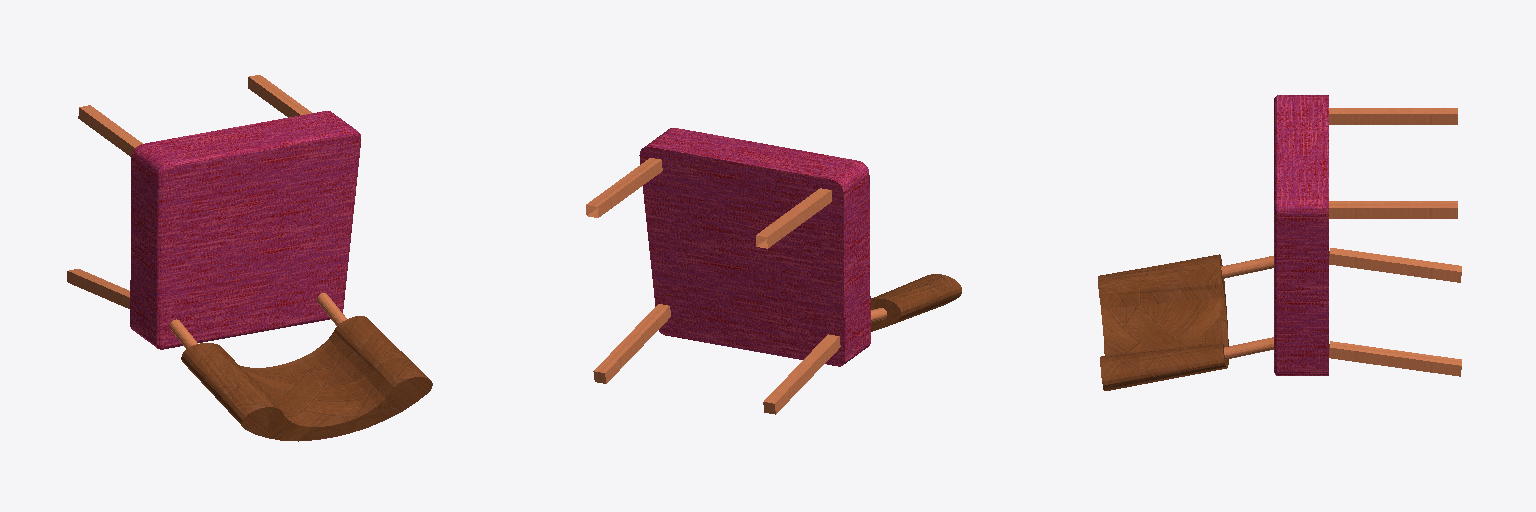
The picture shows the model from 3 angles: view 1: azimuth 30°, elevation 25°; view 2: azimuth 150°, elevation 25°; view 3: azimuth 270°, elevation 25°; orthographic projection.
Size of the model in its own units: 0.5268 by 0.5604 by 0.7969.
Materials: 1 (1 with a texture image).